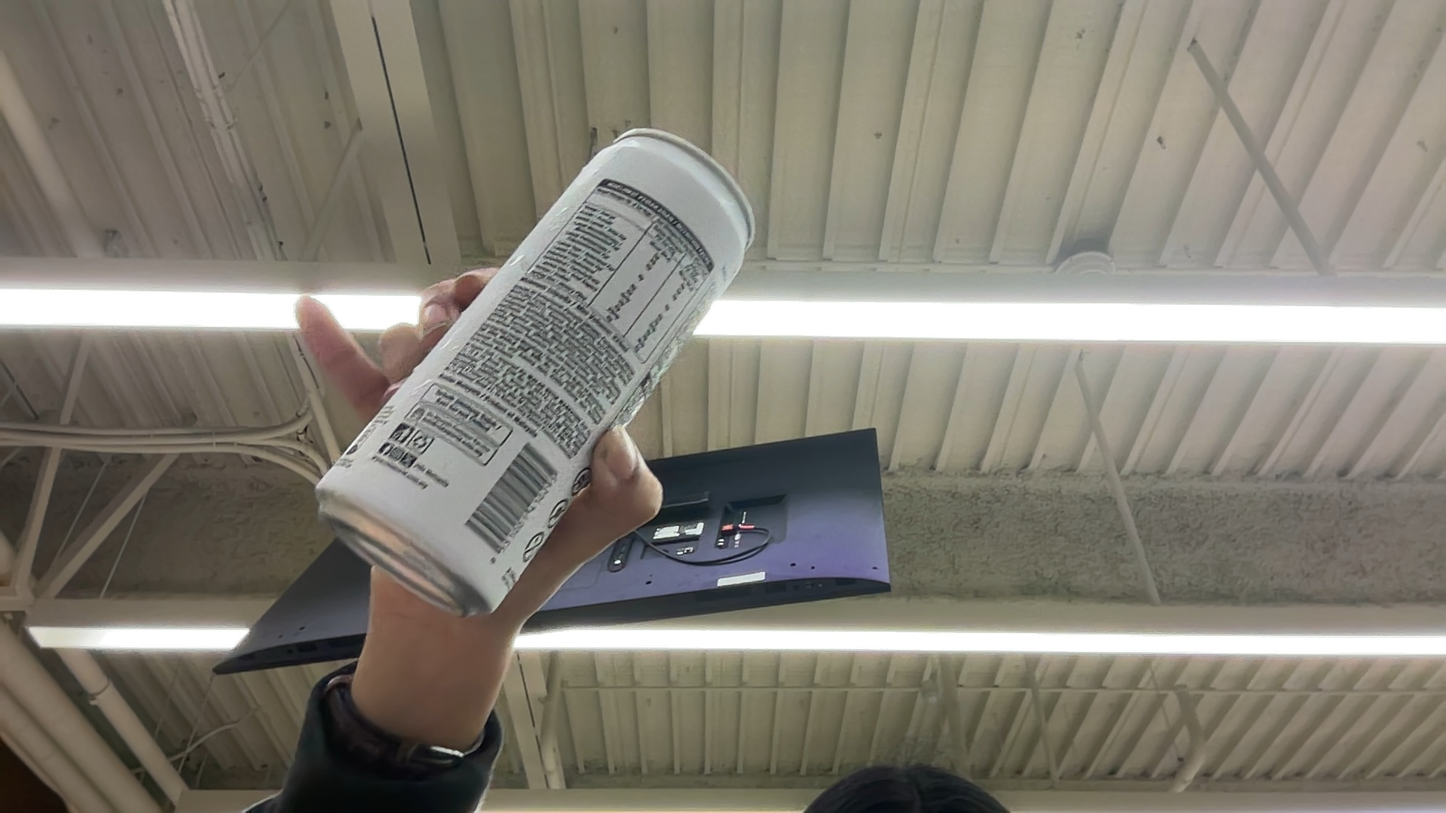Metal: (20, 431, 333, 636)
